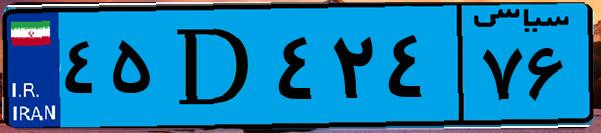2: (330, 28, 385, 110)
4: (270, 28, 330, 110), (385, 28, 445, 110), (57, 26, 110, 100)
5: (110, 28, 158, 98)
6: (525, 38, 570, 115)
7: (475, 38, 525, 113)
D: (158, 12, 270, 120)
